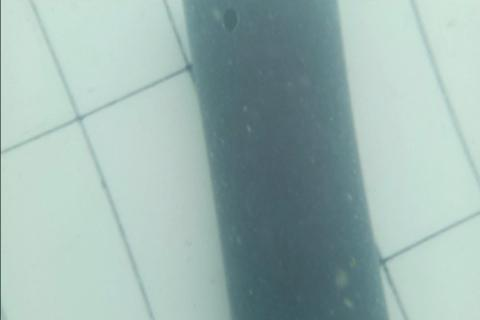kebocoran: (219, 5, 238, 36)
